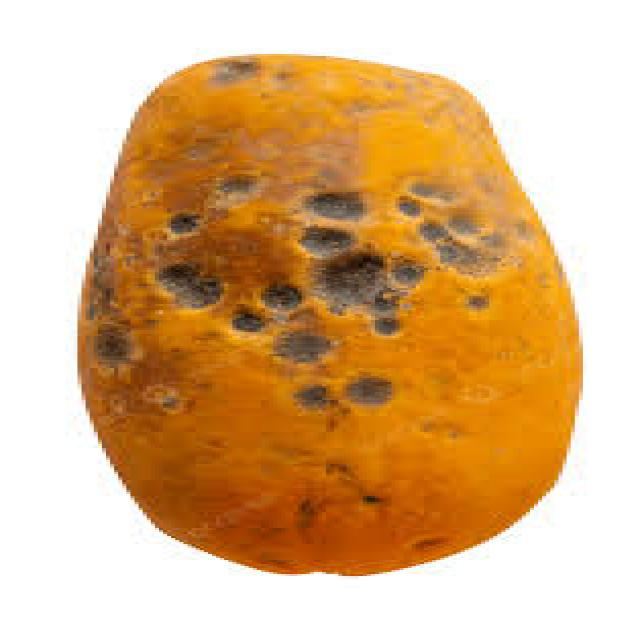Papaya: (96, 58, 584, 574)
